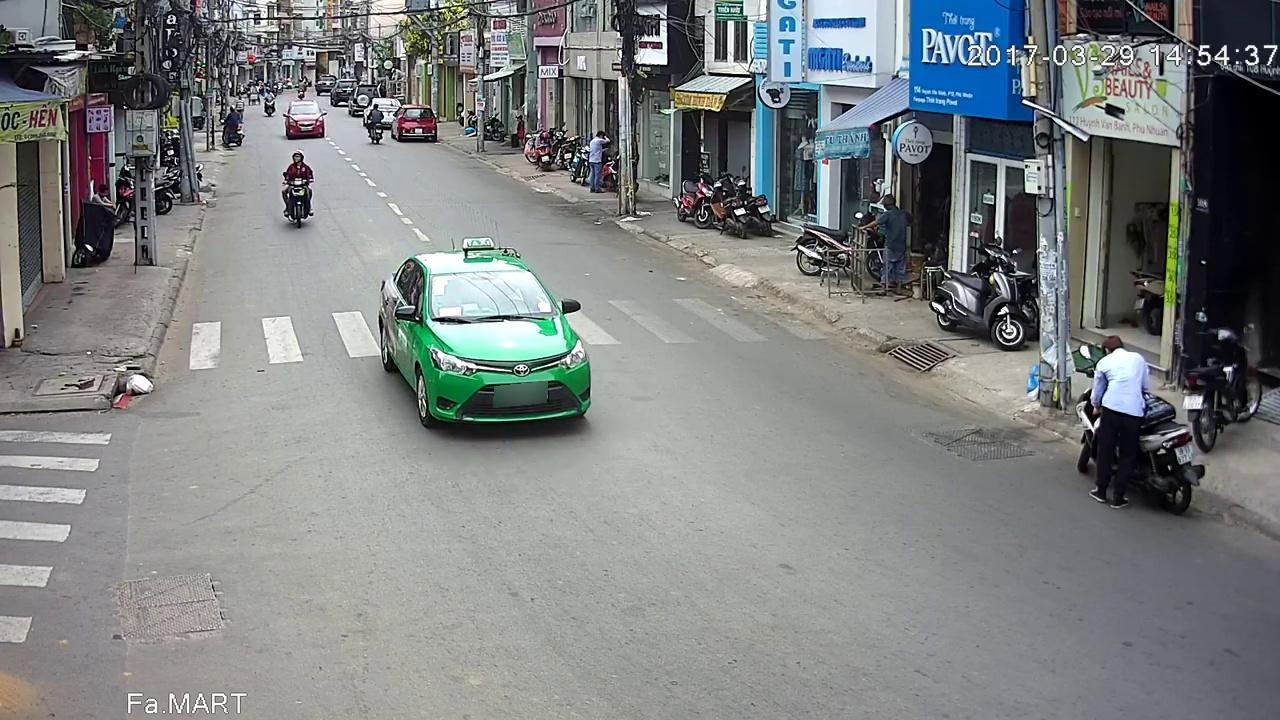xe hoi: (378, 238, 592, 429), (393, 102, 439, 141), (282, 98, 327, 136)
xe may: (279, 150, 315, 230)
